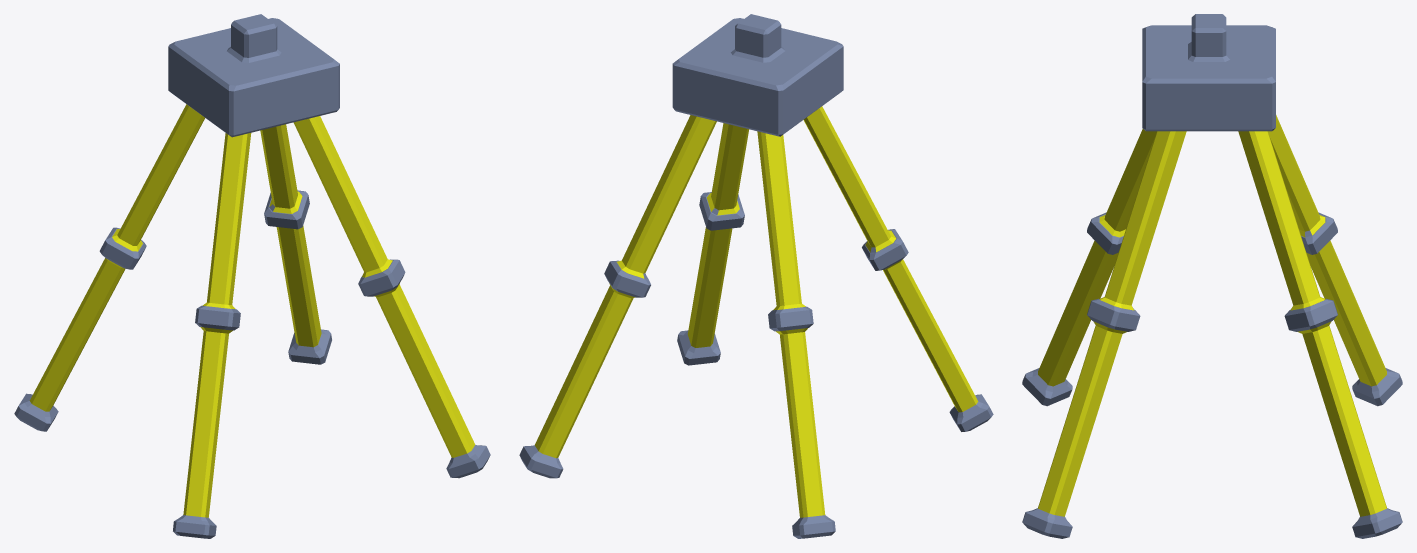
The model's file is turret-tripod.glb.
3 renders of one model, left to right at view 1: azimuth 30°, elevation 25°; view 2: azimuth 150°, elevation 25°; view 3: azimuth 270°, elevation 25°, orthographic. The views are drawn at different scales.
Visible parts, largest first — view 1: Cube; view 2: Cube; view 3: Cube.
Part boxes in pixels (x1,y1,x2,y2): Cube: [14, 14, 490, 538]; Cube: [519, 14, 993, 538]; Cube: [1022, 14, 1402, 538].
Bounding box in the file's own units: 2.44 × 3.17 × 2.44.
